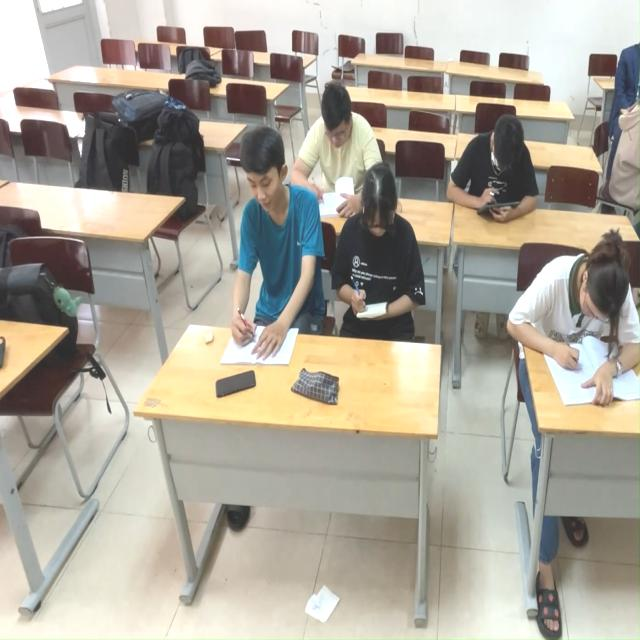read: (208, 123, 324, 385), (507, 224, 640, 412), (330, 179, 426, 329), (447, 104, 537, 231), (300, 96, 370, 211)
